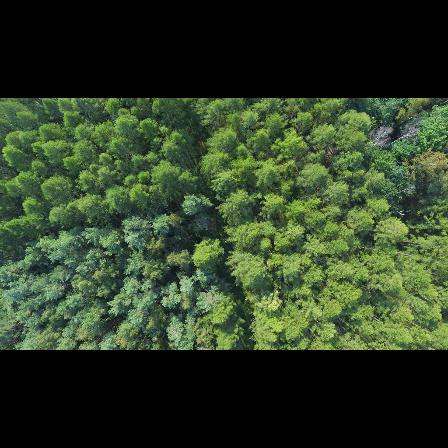Dead: (367, 125, 395, 148), (397, 122, 420, 143)
